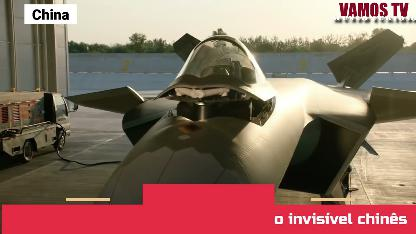F4: (63, 28, 414, 204)
